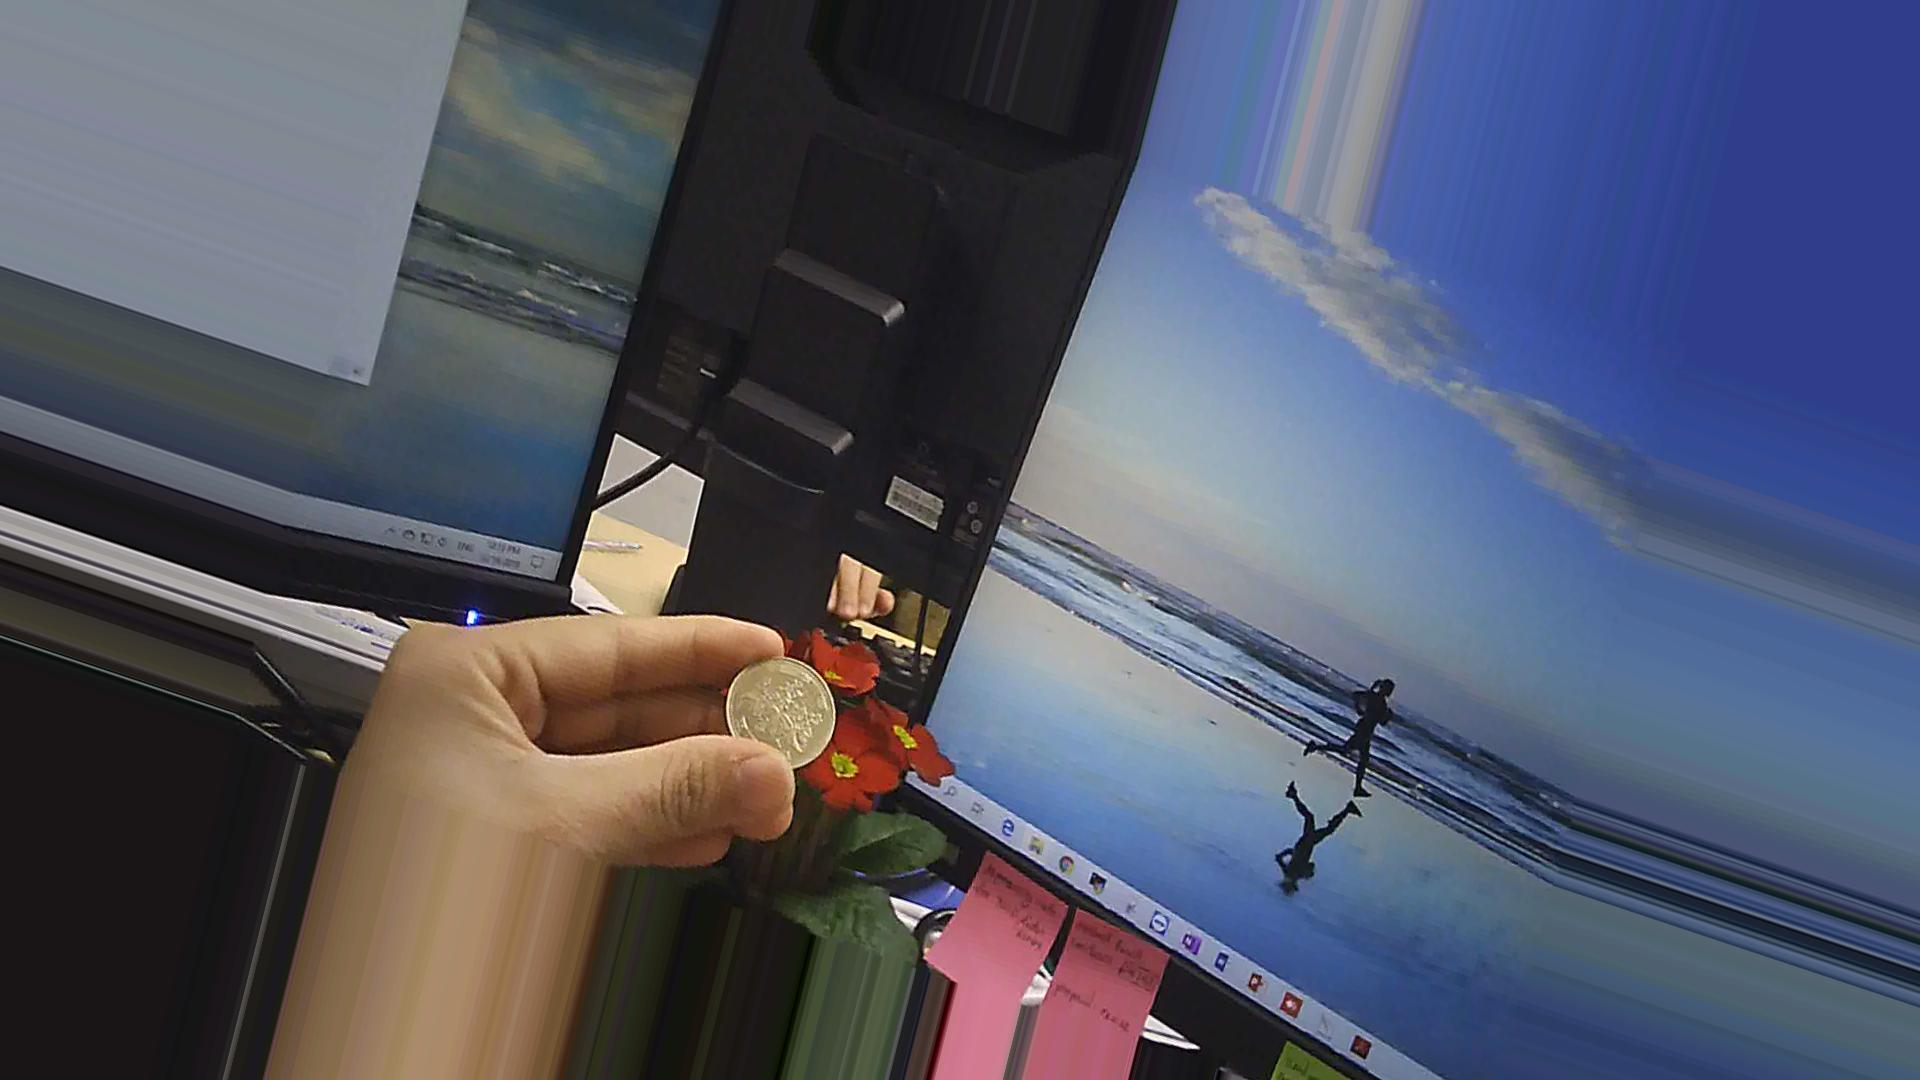500 Yen: (723, 646, 843, 779)
